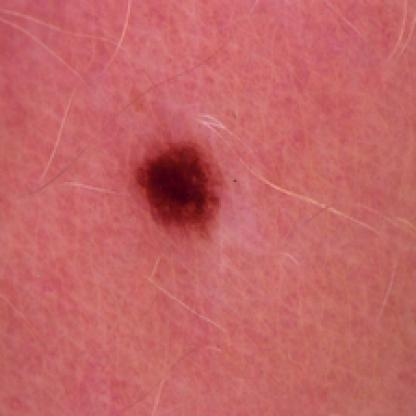benign: (130, 128, 230, 232)
